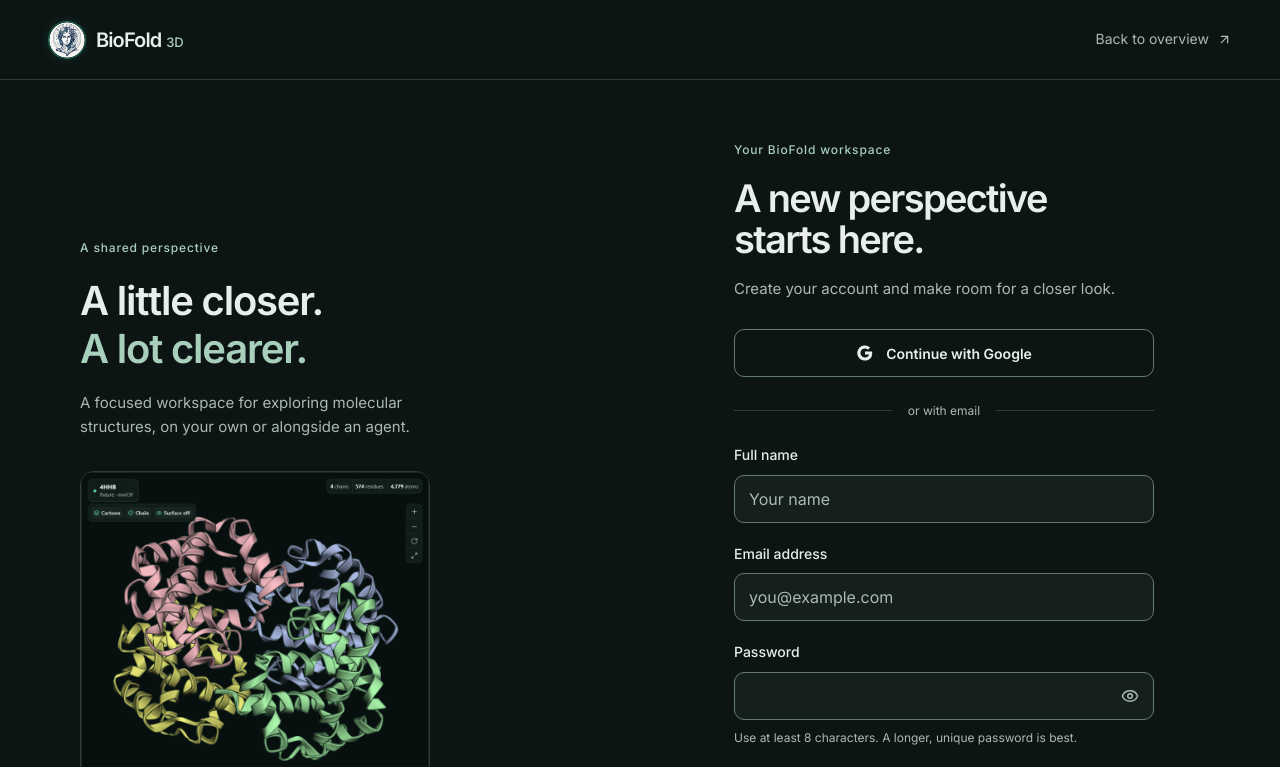
Test: soft platform screens › supports password reveal without changing form value
Type "test-password" into the password field labelled "Password" at coordinates (944, 696), box [734,672,1154,720]
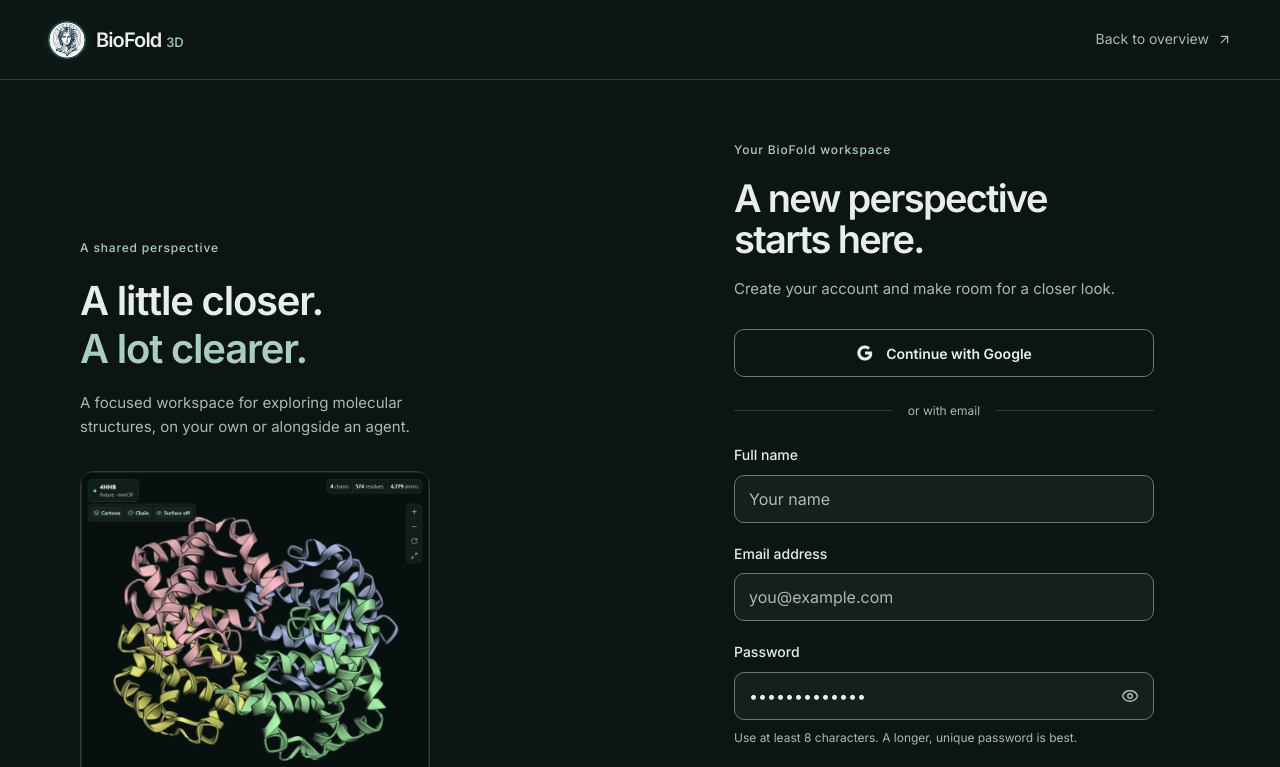
Click the button named "Show password" at coordinates (1130, 696), box [1108,674,1152,718]
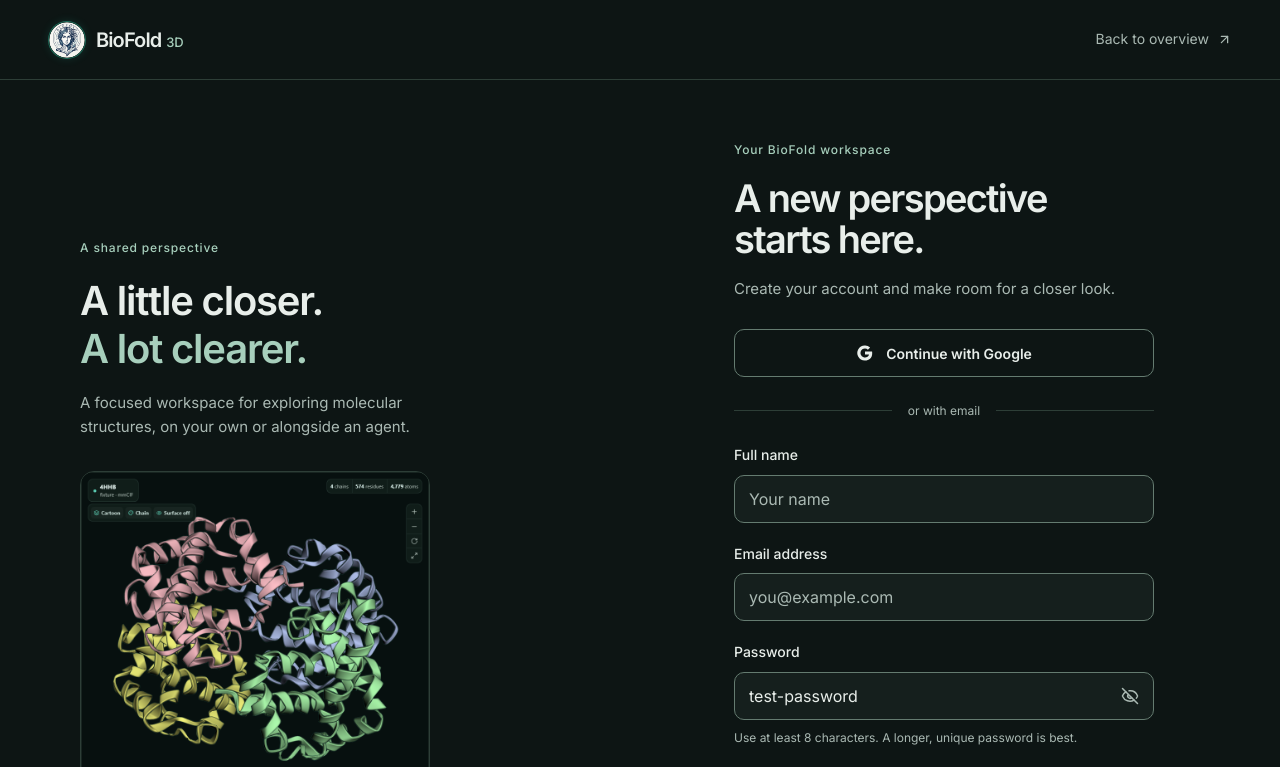
Now the field labelled "Password" shows its text, box [734,672,1154,720]
